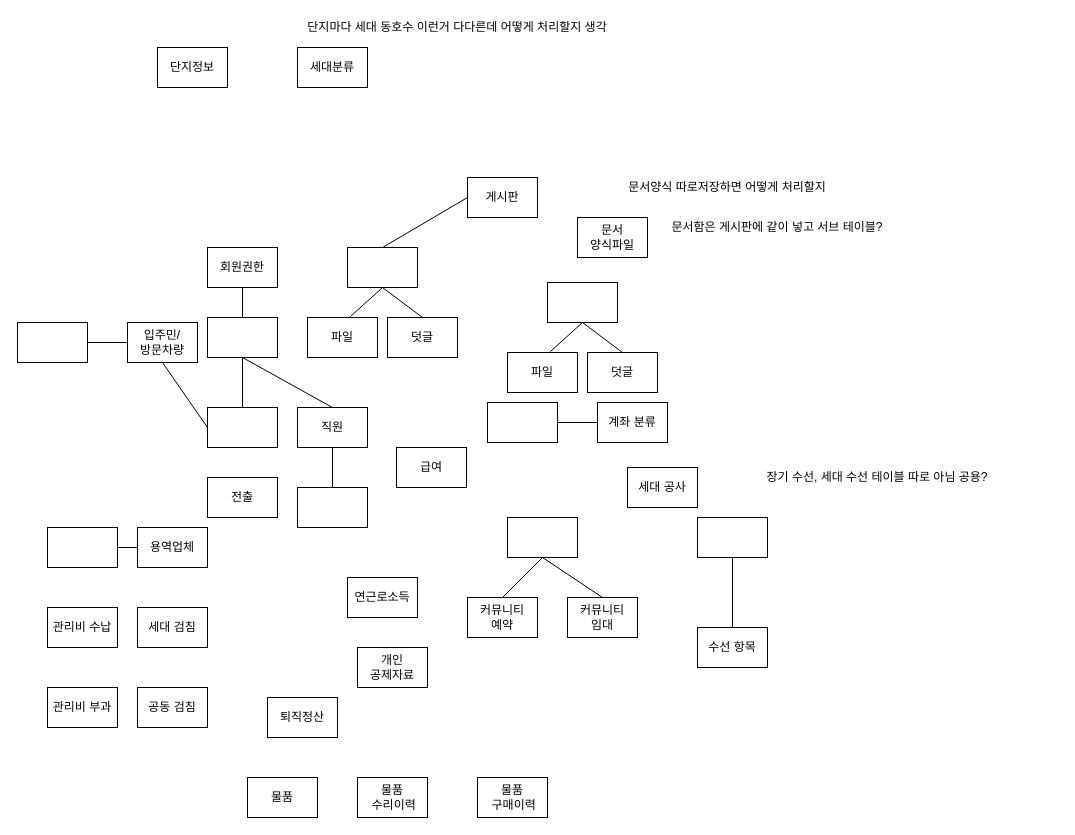
Image size: 1075x835. Some labels were removed from this diagram. The shapes that lost their labels are listed below. From the top down, each one's centre as x and y in pixels, then its label:
At (382,267): "게시글".
At (582,302): "문서함".
At (52,342): "출차내역".
At (242,337): "회원".
At (242,427): "입주민".
At (522,422): "계좌".
At (332,507): "근태".
At (82,547): "용역직원".
At (542,537): "커뮤니티".
At (732,537): "수선".
